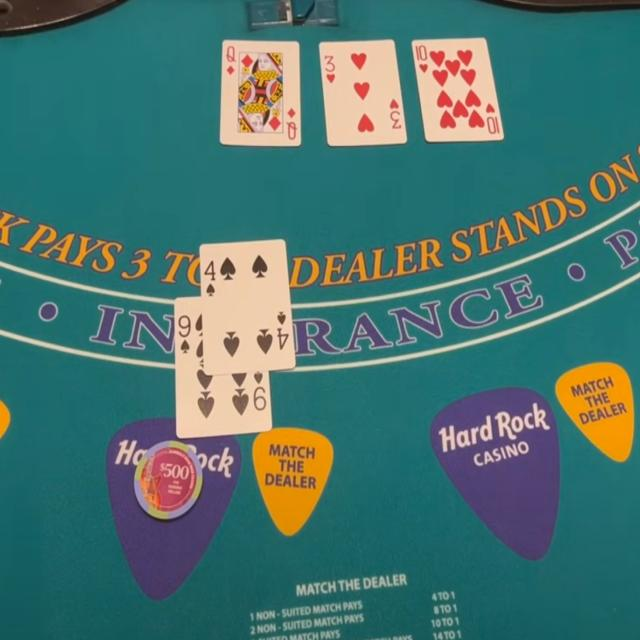10: (413, 43, 430, 62)
3: (322, 52, 338, 72)
4: (202, 257, 220, 283)
9: (175, 311, 194, 339)
Q: (224, 44, 238, 65)
